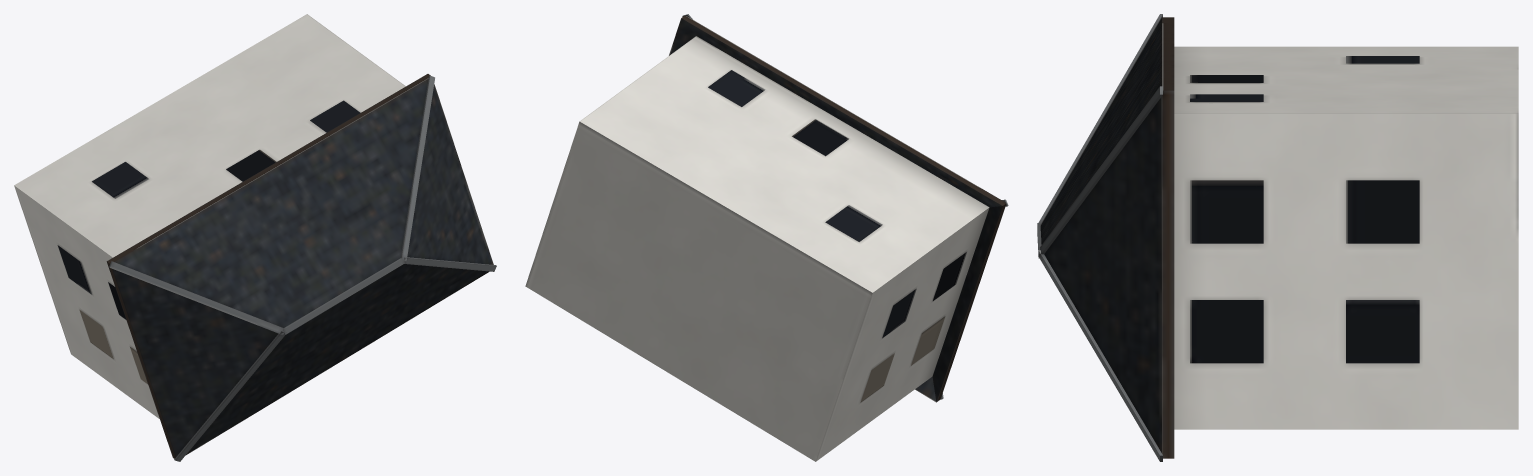
File: house_b0336.obj
3 views of the same model, side by side, from view 1: azimuth 30°, elevation 25°; view 2: azimuth 150°, elevation 25°; view 3: azimuth 270°, elevation 25° (orthographic). The views are drawn at different scales.
Parts seen in each view (by area): view 1: house_b0336; view 2: house_b0336; view 3: house_b0336.
Part boxes in pixels (bbox=[...]): house_b0336: bbox=[14, 14, 496, 461]; house_b0336: bbox=[525, 14, 1008, 461]; house_b0336: bbox=[1037, 14, 1518, 461].
Bounding box in the file's own units: 13.31 × 10.67 × 9.26.
Materials: 1 (1 with a texture image).
